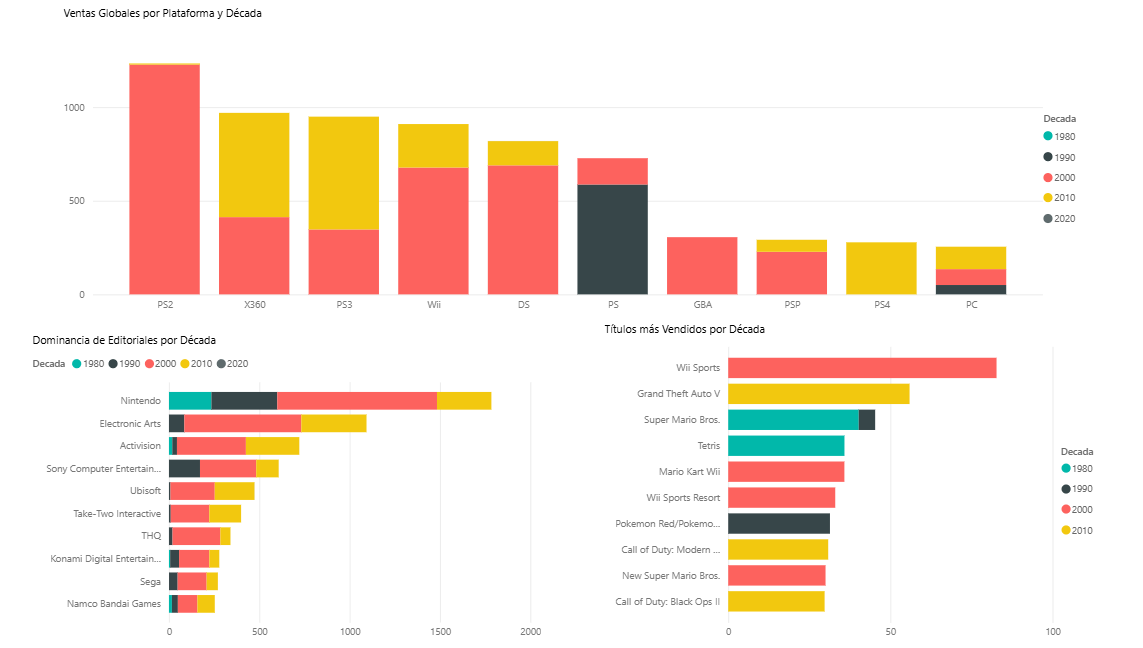

What the dashboard file says about the page in this screenshot:
{"tool":"powerbi","page":{"name":"Inf 2","canvas":[1280,720],"ordinal":1},"visuals":[{"type":"barChart","title":"Dominancia de Editoriales por Década","fields":{"Category":["dim_Editor.Publisher"],"Y":["Sum(Fact_Table.Global_Sales)"],"Series":["dim_Fecha.Decada"]},"box":[51.7,373.1,569.4,346.7],"z":0},{"type":"columnChart","title":"Ventas Globales por Plataforma y Década","fields":{"Category":["dim_Plataforma.Platform"],"Y":["Sum(Fact_Table.Global_Sales)"],"Series":["dim_Fecha.Decada"]},"box":[85.9,13.3,1144.5,347.2],"z":1000},{"type":"barChart","title":"Títulos más Vendidos por Década","fields":{"Category":["dim_Juego.Name"],"Y":["Sum(Fact_Table.Global_Sales)"],"Series":["dim_Fecha.Decada"]},"box":[681.1,360.5,568.6,359.3],"z":2000}]}

Visuals, with their boxes in screenshot pixels (x1, y1, x2, y2), scaled from the page's 1280x720 canvas onto the 1143x648 screenshot:
"Dominancia de Editoriales por Década" barChart: 46/336/555/647
"Ventas Globales por Plataforma y Década" columnChart: 77/12/1099/324
"Títulos más Vendidos por Década" barChart: 608/324/1116/647
